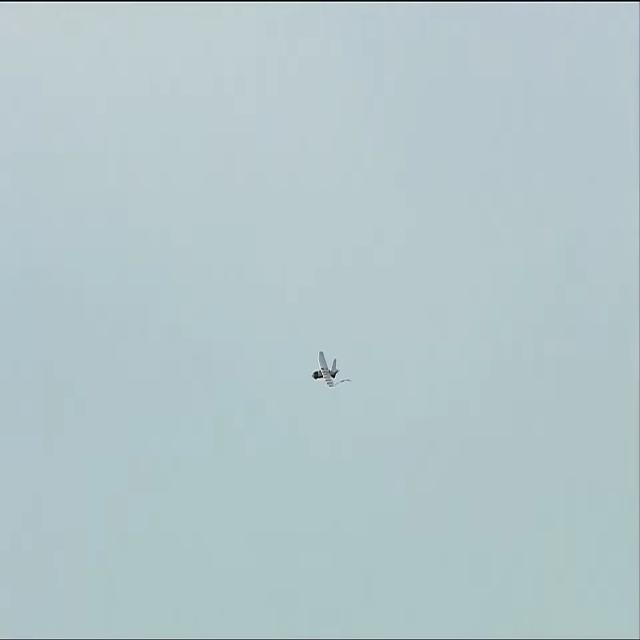iha: (311, 351, 339, 389)
